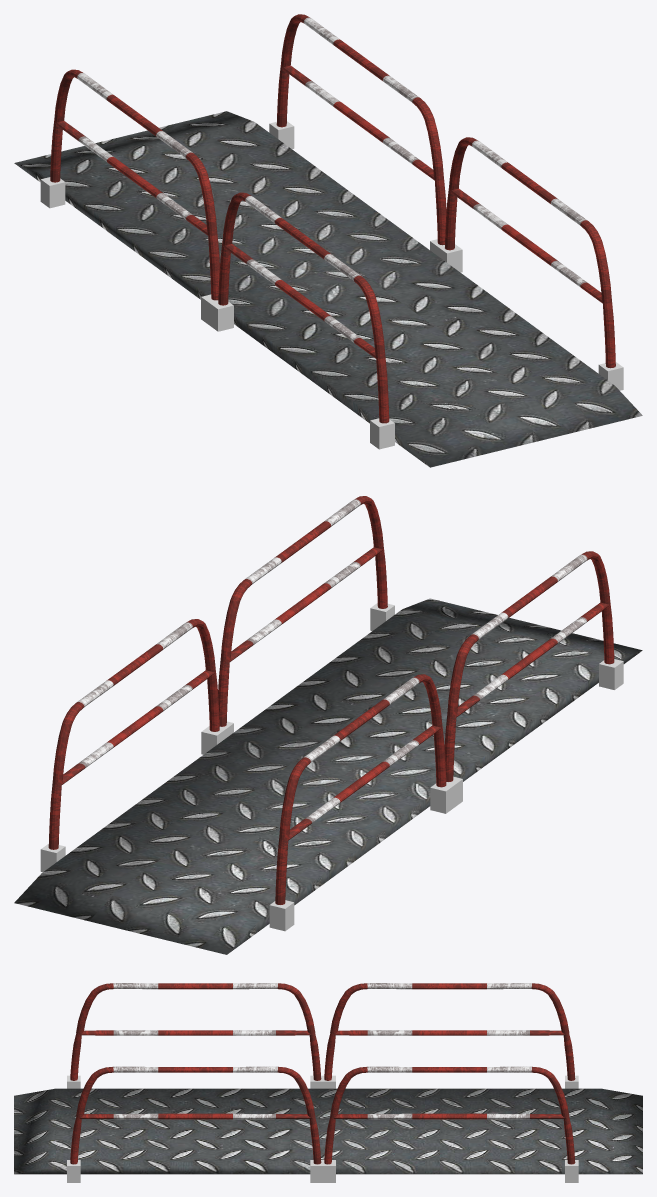
Rendered from MetalBridge.fbx.
The picture shows the model from 3 angles, top to bottom: view 1: azimuth 30°, elevation 25°; view 2: azimuth 150°, elevation 25°; view 3: azimuth 270°, elevation 25°; orthographic projection. The views are drawn at different scales.
Parts seen in each view (by area): view 1: Feet; view 2: Feet; view 3: Feet.
Part boxes in pixels (x1=…): Feet: x1=14, y1=14, x2=642, y2=467; Feet: x1=14, y1=496, x2=642, y2=954; Feet: x1=14, y1=983, x2=642, y2=1182.
Size of the model in its own units: 282 by 164 by 831.
Materials: 3 (2 with a texture image).
